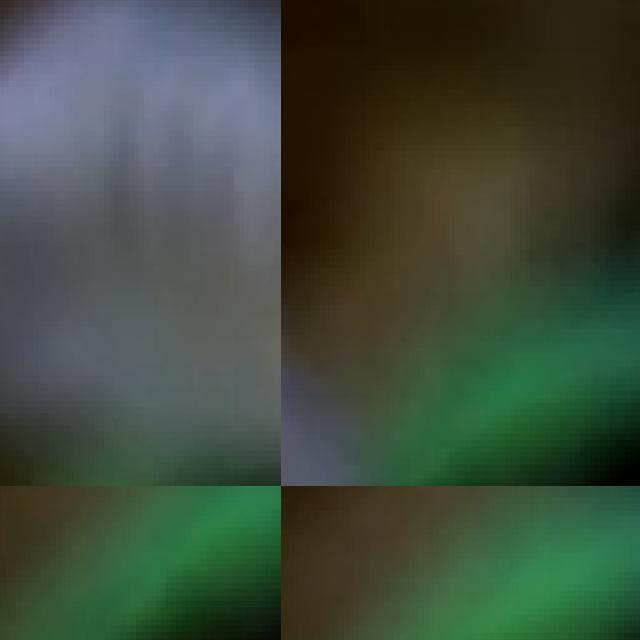fish: (0, 0, 281, 486)
